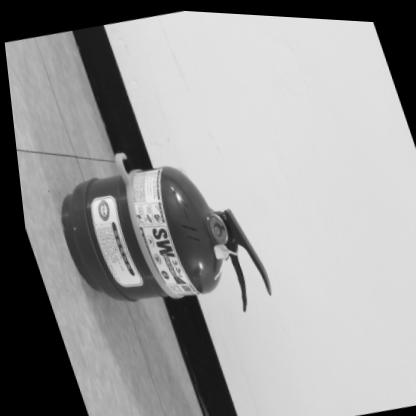FE: (38, 143, 276, 344)
